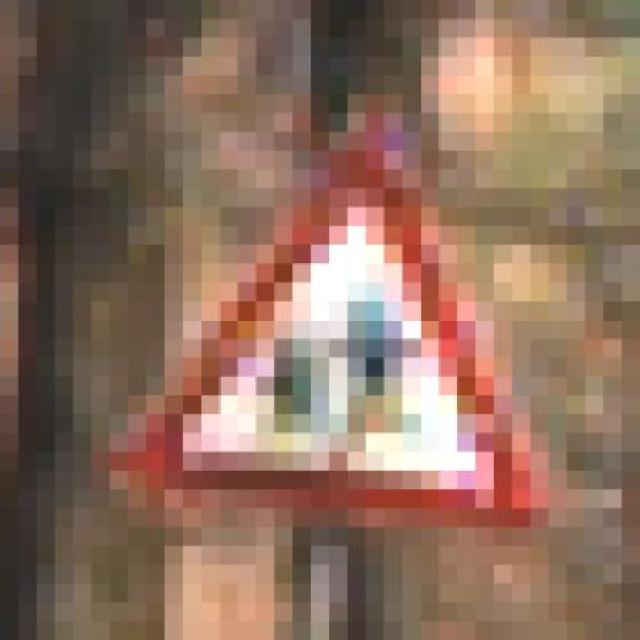Beware of children: (110, 113, 567, 527)
